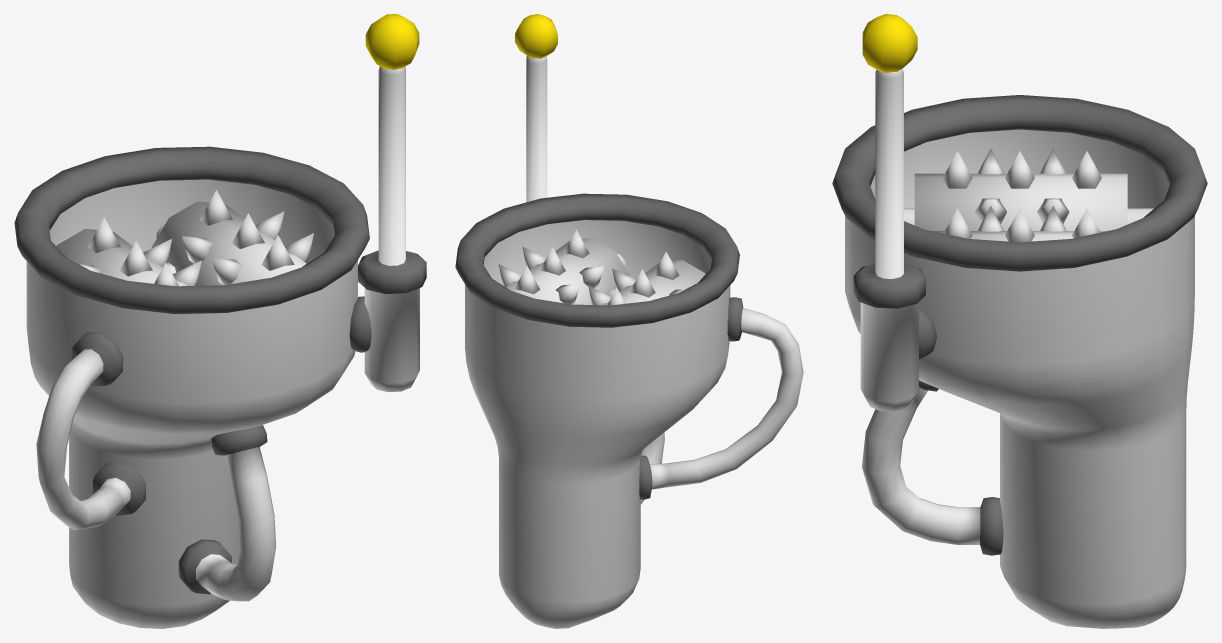
File: GarbageDisposal.fbx
3 views of the same model, side by side, from view 1: azimuth 30°, elevation 25°; view 2: azimuth 150°, elevation 25°; view 3: azimuth 270°, elevation 25° (orthographic). The views are drawn at different scales.
Visible parts, largest first — view 1: Toilet, Lighty, Pipy, Pipy.001, Grinder1, Grinder2; view 2: Toilet, Pipy, Grinder1, Lighty, Grinder2; view 3: Toilet, Lighty, Grinder2, Pipy.001, Grinder1.
Boxes of the visible parts, box(x1,y1,x2,y2) form: Toilet: box(14, 146, 369, 628); Lighty: box(349, 14, 426, 392); Pipy: box(36, 332, 145, 530); Pipy.001: box(178, 425, 276, 601); Grinder1: box(151, 190, 313, 285); Grinder2: box(56, 217, 201, 286); Toilet: box(455, 193, 739, 628); Pipy: box(639, 297, 803, 499); Grinder1: box(498, 229, 629, 304); Lighty: box(515, 14, 557, 202); Grinder2: box(588, 251, 705, 305); Toilet: box(832, 95, 1207, 628); Lighty: box(853, 14, 937, 411); Grinder2: box(914, 148, 1127, 230); Pipy.001: box(862, 380, 1003, 555); Grinder1: box(933, 206, 1106, 242).
Bounding box in the file's own units: 484 × 801 × 403.
